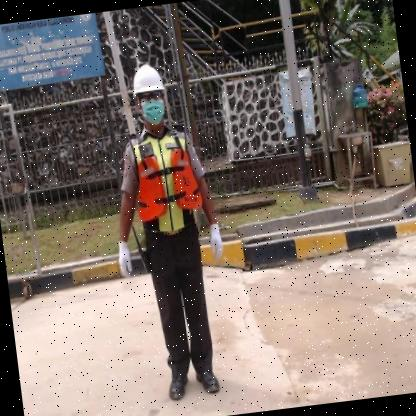capacete: (129, 61, 165, 94)
oculos: (135, 90, 167, 103)
